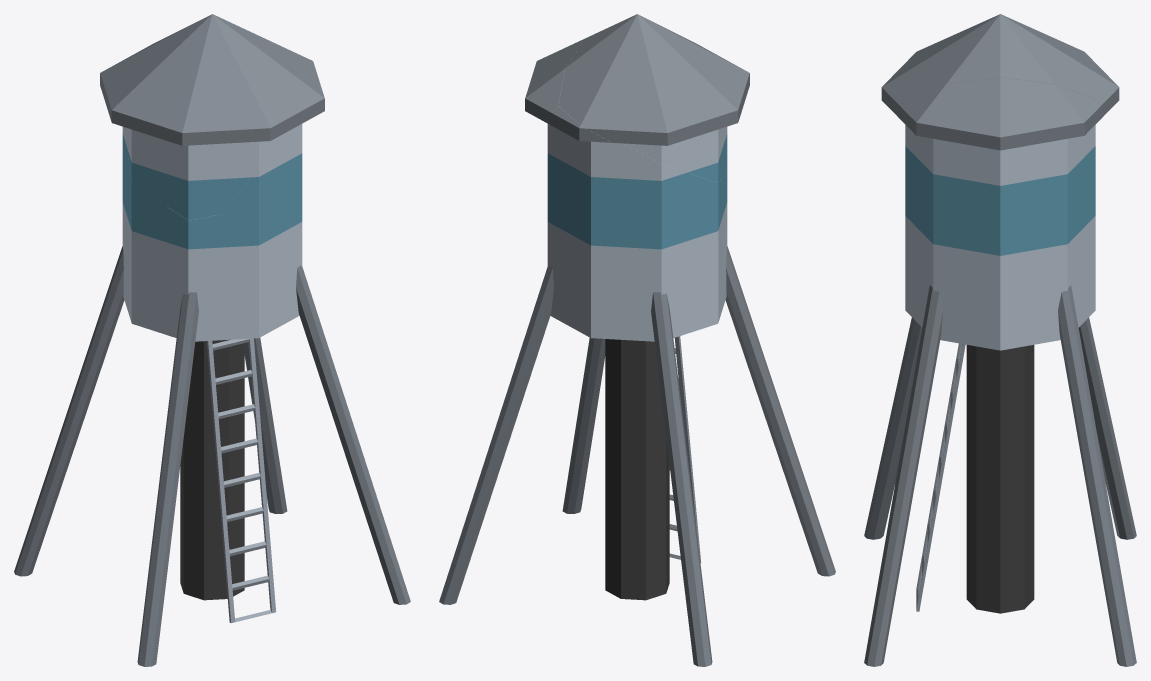
File: Water Tower Fractured.fbx
3 renders of one model, left to right at view 1: azimuth 30°, elevation 25°; view 2: azimuth 150°, elevation 25°; view 3: azimuth 270°, elevation 25°, orthographic. The views are drawn at different scales.
Parts seen in each view (by area): view 1: Water_Tower_Breaking.005_cell, Water_Tower_Breaking.005_cell.002, Water_Tower_Breaking.005_cell.001, Water_Tower_Breaking.006; view 2: Water_Tower_Breaking.005_cell.002, Water_Tower_Breaking.005_cell, Water_Tower_Breaking.006, Water_Tower_Breaking.005_cell.001; view 3: Water_Tower_Breaking.005_cell.001, Water_Tower_Breaking.006, Water_Tower_Breaking.005_cell.002, Water_Tower_Breaking.005_cell.
Part boxes in pixels (x1,y1,x2,y2): Water_Tower_Breaking.005_cell: [100, 14, 293, 220]; Water_Tower_Breaking.005_cell.002: [14, 127, 223, 666]; Water_Tower_Breaking.005_cell.001: [223, 38, 410, 604]; Water_Tower_Breaking.006: [180, 338, 275, 623]; Water_Tower_Breaking.005_cell.002: [552, 106, 835, 666]; Water_Tower_Breaking.005_cell: [558, 14, 749, 182]; Water_Tower_Breaking.006: [605, 336, 701, 600]; Water_Tower_Breaking.005_cell.001: [439, 38, 605, 604]; Water_Tower_Breaking.005_cell.001: [864, 77, 1136, 666]; Water_Tower_Breaking.006: [916, 343, 1034, 613]; Water_Tower_Breaking.005_cell.002: [864, 85, 1136, 539]; Water_Tower_Breaking.005_cell: [881, 14, 1116, 134].
Bounding box in the file's own units: 619 × 1251 × 527.
